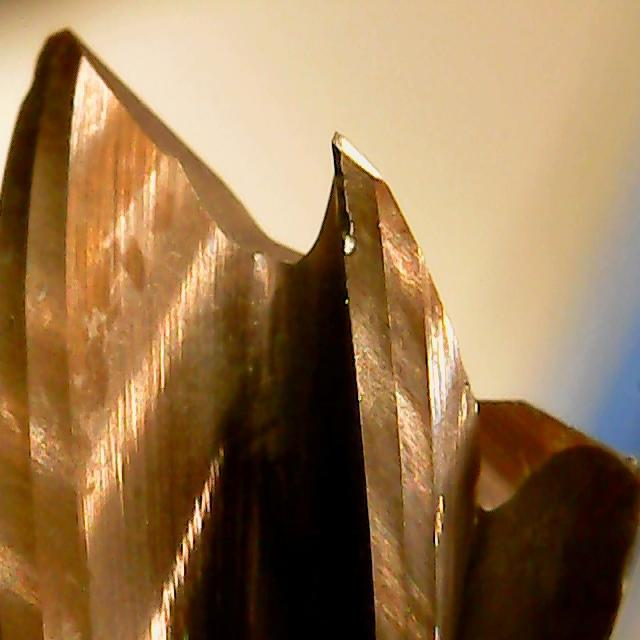Tool-wear-class-1: (319, 131, 425, 425)
